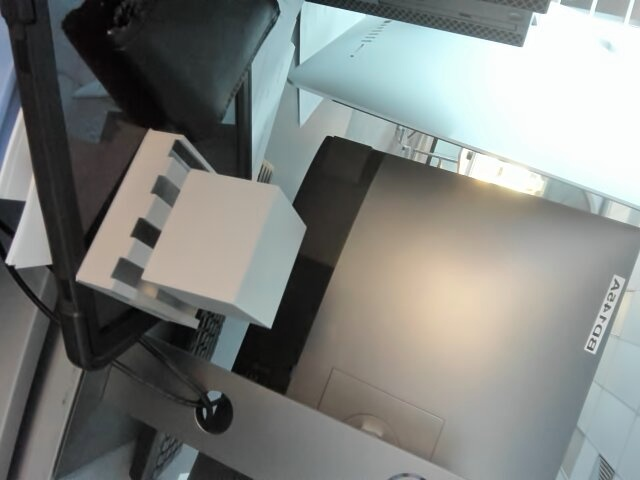grey pallet: (59, 125, 310, 336)
